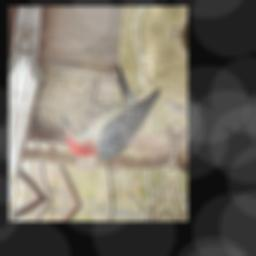Woodpecker: (57, 61, 159, 174)
